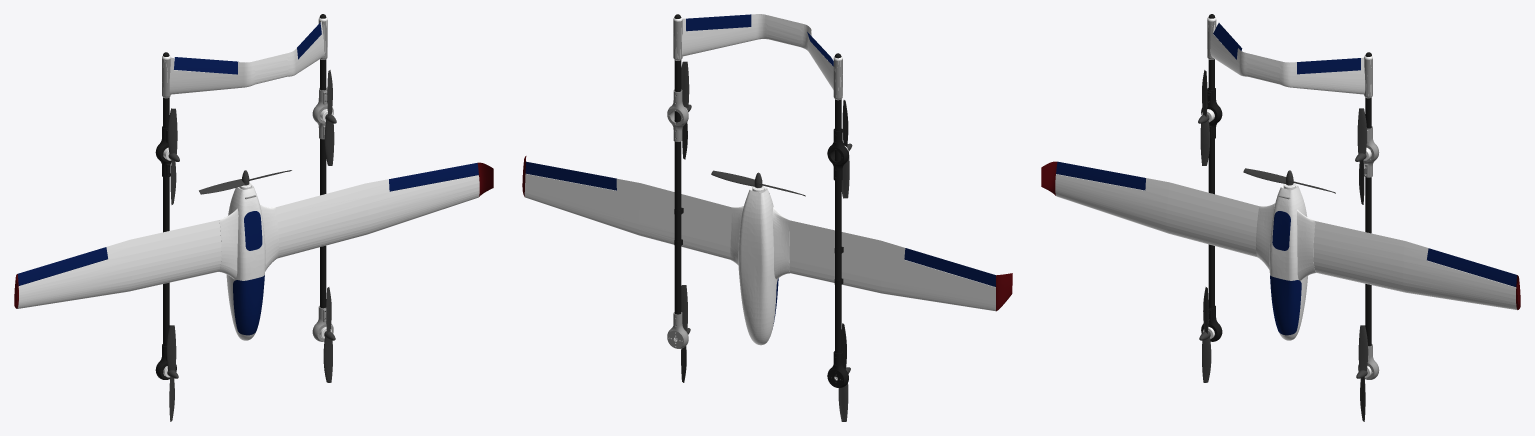
The model's file is vtol_aircraft.dae.
The picture shows the model from 3 angles, left to right: view 1: azimuth 30°, elevation 25°; view 2: azimuth 150°, elevation 25°; view 3: azimuth 330°, elevation 25°; orthographic projection. The views are drawn at different scales.
Visible parts, largest first — view 1: node_6c057ad4_9ab9_4198_8e7e_7bf58f613a71_mesh0, node_b10949c0_8b9d_4435_a4ab_e561bd646954_mesh0, node_88b5ae96_0da3_4dec_86b5_25618bc28e67_mesh0, node_d2bb3c8a_3b33_42c5_b8f6_9f887315763c_mesh0, node_77d0e7d4_3ff7_4f97_b8e6_6a9dd65b5156_mesh0, node_57aa2765_49bc_45ae_99cf_b23ae5076dc0_mesh0, node_18c47e6e_7341_4939_9b48_adcc4a063dad_mesh0, node_4cec36fb_a5b4_4c31_a2f7_ab17cd246a03_mesh0, node_0d072dba_b328_4242_b09d_303195e81d21_mesh0, node_771c7fdc_6600_4278_a155_4a22c5a48f12_mesh0, node_ff0dca93_2f2a_46dd_be5c_20aba35b4efe_mesh0, node_d60d05e2_1294_464d_b4e4_799d2ab370b4_mesh0 (+4 smaller); view 2: node_6c057ad4_9ab9_4198_8e7e_7bf58f613a71_mesh0, node_b10949c0_8b9d_4435_a4ab_e561bd646954_mesh0, node_88b5ae96_0da3_4dec_86b5_25618bc28e67_mesh0, node_d2bb3c8a_3b33_42c5_b8f6_9f887315763c_mesh0, node_4cec36fb_a5b4_4c31_a2f7_ab17cd246a03_mesh0, node_0d072dba_b328_4242_b09d_303195e81d21_mesh0, node_18c47e6e_7341_4939_9b48_adcc4a063dad_mesh0, node_57aa2765_49bc_45ae_99cf_b23ae5076dc0_mesh0, node_4b877750_00a5_4baa_8ab4_371474913d0f_mesh0, node_ff0dca93_2f2a_46dd_be5c_20aba35b4efe_mesh0, node_d60d05e2_1294_464d_b4e4_799d2ab370b4_mesh0, node_db8c4524_cc03_436d_90ba_d074c9ad3434_mesh0 (+3 smaller); view 3: node_b10949c0_8b9d_4435_a4ab_e561bd646954_mesh0, node_6c057ad4_9ab9_4198_8e7e_7bf58f613a71_mesh0, node_88b5ae96_0da3_4dec_86b5_25618bc28e67_mesh0, node_d2bb3c8a_3b33_42c5_b8f6_9f887315763c_mesh0, node_77d0e7d4_3ff7_4f97_b8e6_6a9dd65b5156_mesh0, node_18c47e6e_7341_4939_9b48_adcc4a063dad_mesh0, node_57aa2765_49bc_45ae_99cf_b23ae5076dc0_mesh0, node_0d072dba_b328_4242_b09d_303195e81d21_mesh0, node_4cec36fb_a5b4_4c31_a2f7_ab17cd246a03_mesh0, node_4b877750_00a5_4baa_8ab4_371474913d0f_mesh0, node_93fe0383_b61d_4169_91cc_2f68ab021832_mesh0, node_db8c4524_cc03_436d_90ba_d074c9ad3434_mesh0 (+4 smaller).
Part boxes in pixels (x1,y1,x2,y2): node_6c057ad4_9ab9_4198_8e7e_7bf58f613a71_mesh0: (17, 220, 221, 308); node_b10949c0_8b9d_4435_a4ab_e561bd646954_mesh0: (275, 175, 479, 258); node_88b5ae96_0da3_4dec_86b5_25618bc28e67_mesh0: (218, 185, 278, 340); node_d2bb3c8a_3b33_42c5_b8f6_9f887315763c_mesh0: (162, 17, 327, 98); node_77d0e7d4_3ff7_4f97_b8e6_6a9dd65b5156_mesh0: (233, 275, 264, 335); node_57aa2765_49bc_45ae_99cf_b23ae5076dc0_mesh0: (17, 247, 107, 285); node_18c47e6e_7341_4939_9b48_adcc4a063dad_mesh0: (389, 163, 478, 191); node_4cec36fb_a5b4_4c31_a2f7_ab17cd246a03_mesh0: (320, 18, 326, 319); node_0d072dba_b328_4242_b09d_303195e81d21_mesh0: (163, 55, 169, 346); node_771c7fdc_6600_4278_a155_4a22c5a48f12_mesh0: (174, 57, 238, 74); node_ff0dca93_2f2a_46dd_be5c_20aba35b4efe_mesh0: (166, 325, 178, 421); node_d60d05e2_1294_464d_b4e4_799d2ab370b4_mesh0: (168, 108, 179, 204); node_6c057ad4_9ab9_4198_8e7e_7bf58f613a71_mesh0: (789, 220, 995, 311); node_b10949c0_8b9d_4435_a4ab_e561bd646954_mesh0: (524, 174, 731, 259); node_88b5ae96_0da3_4dec_86b5_25618bc28e67_mesh0: (730, 187, 789, 345); node_d2bb3c8a_3b33_42c5_b8f6_9f887315763c_mesh0: (673, 14, 842, 100); node_4cec36fb_a5b4_4c31_a2f7_ab17cd246a03_mesh0: (674, 17, 681, 325); node_0d072dba_b328_4242_b09d_303195e81d21_mesh0: (835, 56, 841, 364); node_18c47e6e_7341_4939_9b48_adcc4a063dad_mesh0: (525, 161, 616, 190); node_57aa2765_49bc_45ae_99cf_b23ae5076dc0_mesh0: (904, 248, 995, 286); node_4b877750_00a5_4baa_8ab4_371474913d0f_mesh0: (686, 14, 751, 31); node_ff0dca93_2f2a_46dd_be5c_20aba35b4efe_mesh0: (838, 323, 850, 421); node_d60d05e2_1294_464d_b4e4_799d2ab370b4_mesh0: (841, 100, 852, 198); node_db8c4524_cc03_436d_90ba_d074c9ad3434_mesh0: (681, 61, 691, 159); node_b10949c0_8b9d_4435_a4ab_e561bd646954_mesh0: (1313, 221, 1517, 309); node_6c057ad4_9ab9_4198_8e7e_7bf58f613a71_mesh0: (1055, 174, 1259, 257); node_88b5ae96_0da3_4dec_86b5_25618bc28e67_mesh0: (1256, 184, 1315, 340); node_d2bb3c8a_3b33_42c5_b8f6_9f887315763c_mesh0: (1207, 17, 1372, 98); node_77d0e7d4_3ff7_4f97_b8e6_6a9dd65b5156_mesh0: (1270, 275, 1301, 335); node_18c47e6e_7341_4939_9b48_adcc4a063dad_mesh0: (1427, 248, 1516, 286); node_57aa2765_49bc_45ae_99cf_b23ae5076dc0_mesh0: (1056, 161, 1145, 190); node_0d072dba_b328_4242_b09d_303195e81d21_mesh0: (1208, 18, 1214, 319); node_4cec36fb_a5b4_4c31_a2f7_ab17cd246a03_mesh0: (1365, 55, 1371, 346); node_4b877750_00a5_4baa_8ab4_371474913d0f_mesh0: (1297, 58, 1360, 74); node_93fe0383_b61d_4169_91cc_2f68ab021832_mesh0: (1356, 325, 1368, 421); node_db8c4524_cc03_436d_90ba_d074c9ad3434_mesh0: (1355, 108, 1366, 204).
Size of the model in its own units: 2.13 by 1.55 by 0.258.
